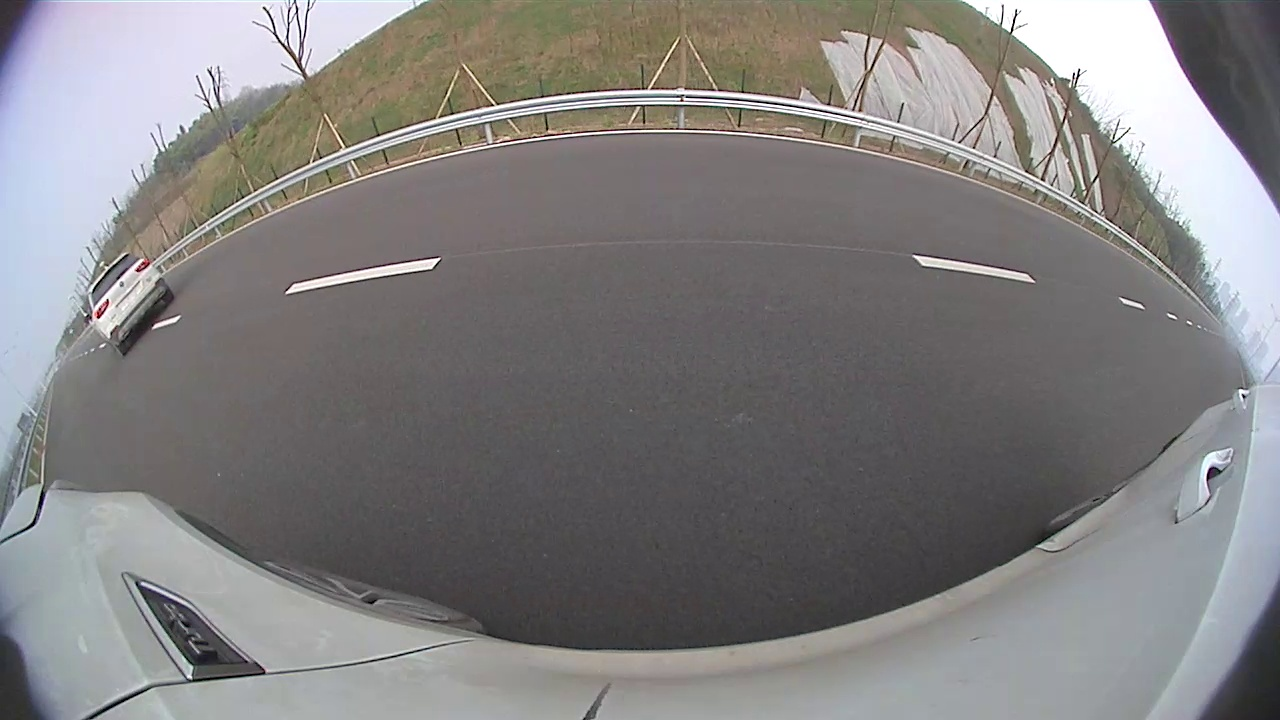car: (85, 252, 173, 357)
